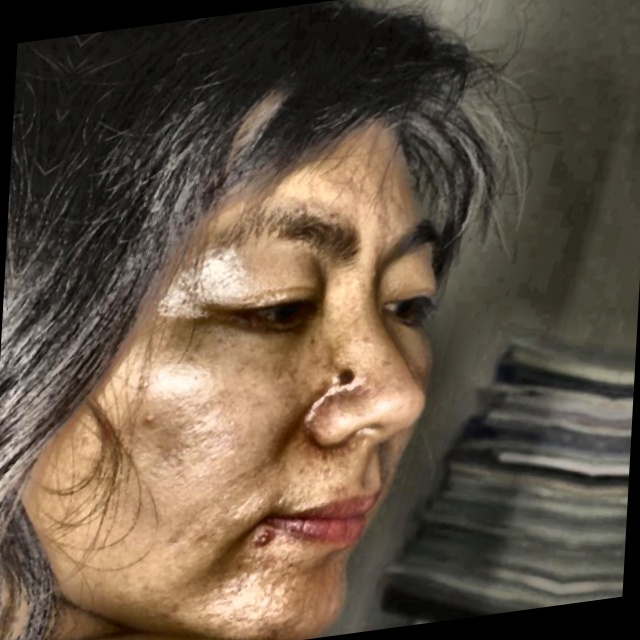comedone: (234, 523, 285, 568)
